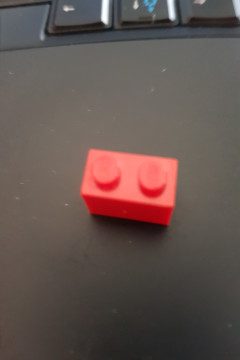1x2 red: (78, 144, 179, 234)
